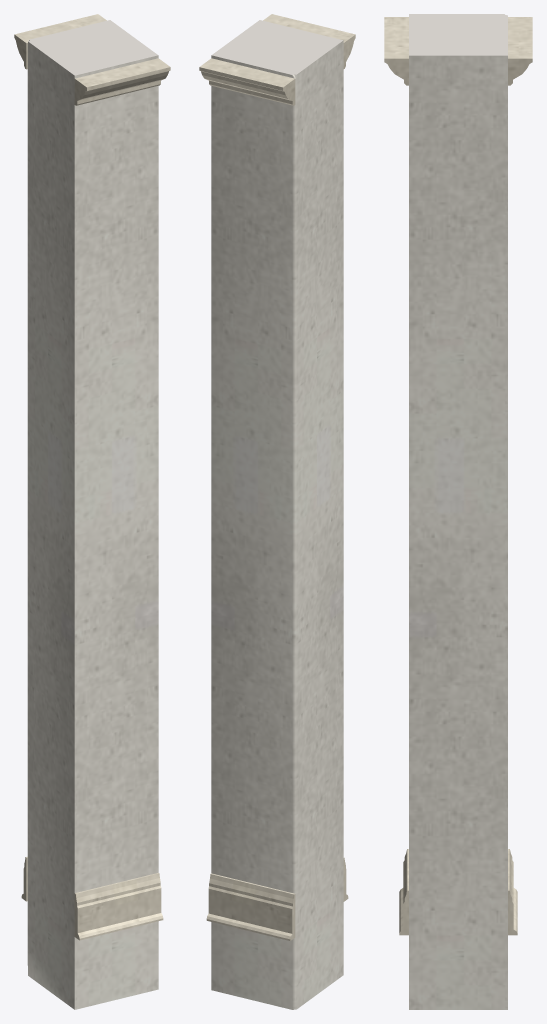
The model's file is pv_filler_u.glb.
3 views of the same model, side by side, from view 1: azimuth 30°, elevation 25°; view 2: azimuth 150°, elevation 25°; view 3: azimuth 270°, elevation 25° (orthographic). The views are drawn at different scales.
Visible parts, largest first — view 1: pv_filler_u_plaster, molduras; view 2: pv_filler_u_plaster, molduras; view 3: pv_filler_u_plaster, molduras.
Part boxes in pixels (left/top/right/bottom): pv_filler_u_plaster: left=27, top=20, right=158, bottom=1009; molduras: left=14, top=14, right=170, bottom=940; pv_filler_u_plaster: left=211, top=20, right=343, bottom=1009; molduras: left=199, top=14, right=355, bottom=940; pv_filler_u_plaster: left=409, top=14, right=507, bottom=1009; molduras: left=384, top=17, right=532, bottom=935.
Bounding box in the file's own units: 0.3002 × 3.2 × 0.45.
Materials: 2 (2 with a texture image).
